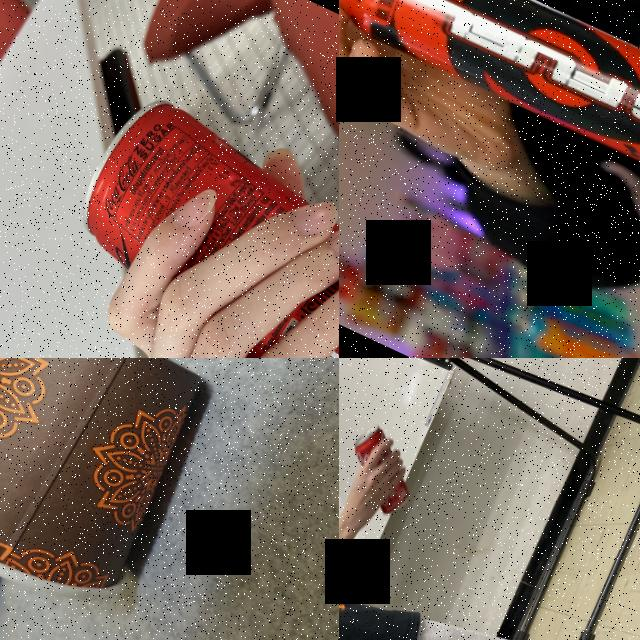can: (31, 82, 339, 358), (339, 0, 640, 212), (339, 417, 432, 523)
cup: (0, 358, 231, 630)
